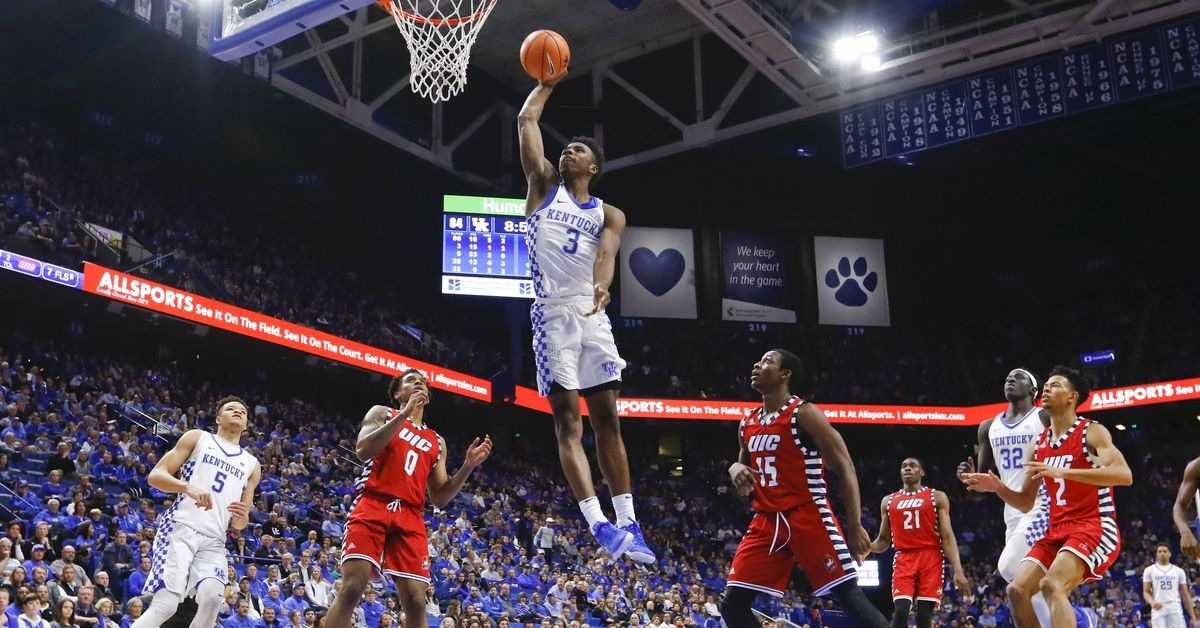dunk: (390, 8, 658, 577)
stand: (325, 350, 497, 628)
